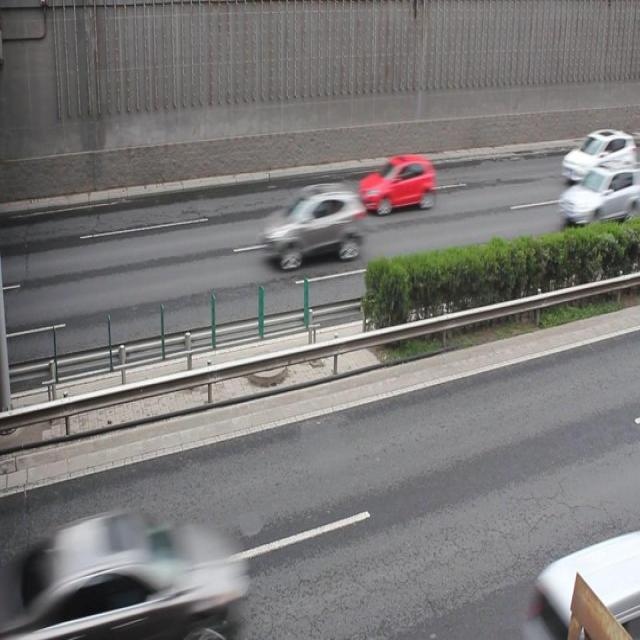car: (28, 508, 239, 640), (262, 182, 359, 268), (554, 158, 640, 229), (358, 155, 433, 216), (560, 128, 640, 184)
